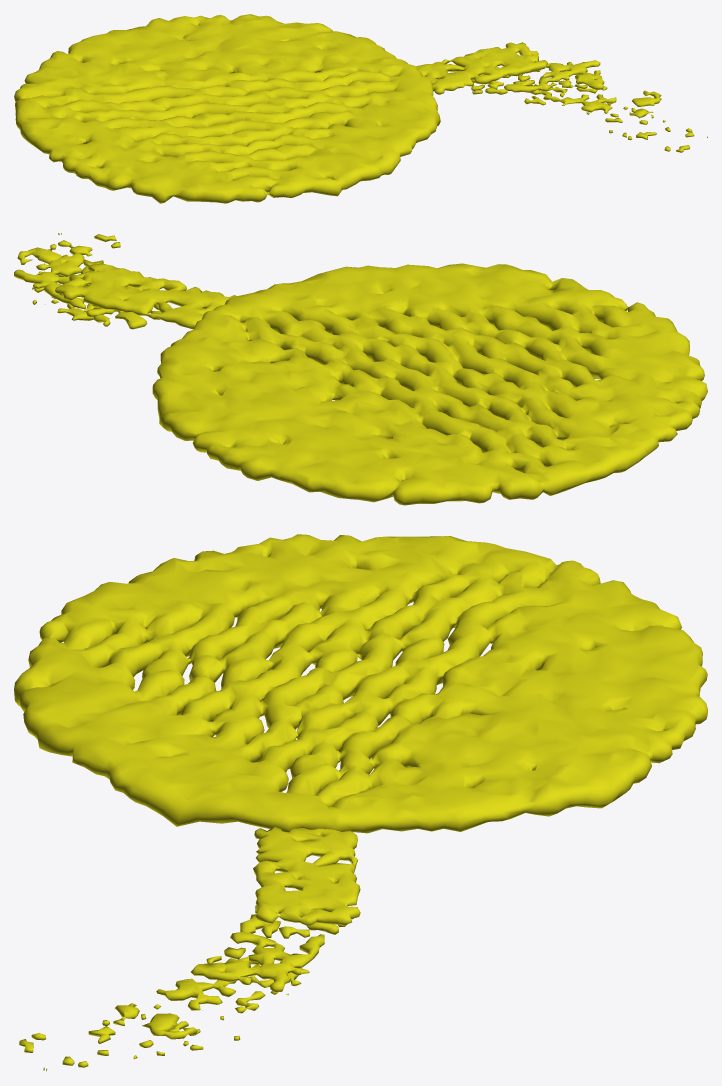
File: snow_230221.fbx
The picture shows the model from 3 angles, top to bottom: view 1: azimuth 30°, elevation 25°; view 2: azimuth 150°, elevation 25°; view 3: azimuth 270°, elevation 25°; orthographic projection. The views are drawn at different scales.
Parts seen in each view (by area): view 1: snow; view 2: snow; view 3: snow.
Boxes of the visible parts, x1,y1,x2,y2 form: snow: (14,14,707,203); snow: (14,233,707,505); snow: (14,534,707,1071).
Bounding box in the file's own units: 1531 × 158 × 998.
